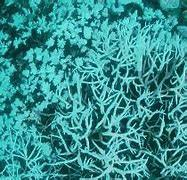bleached_corals: (0, 1, 187, 180)
